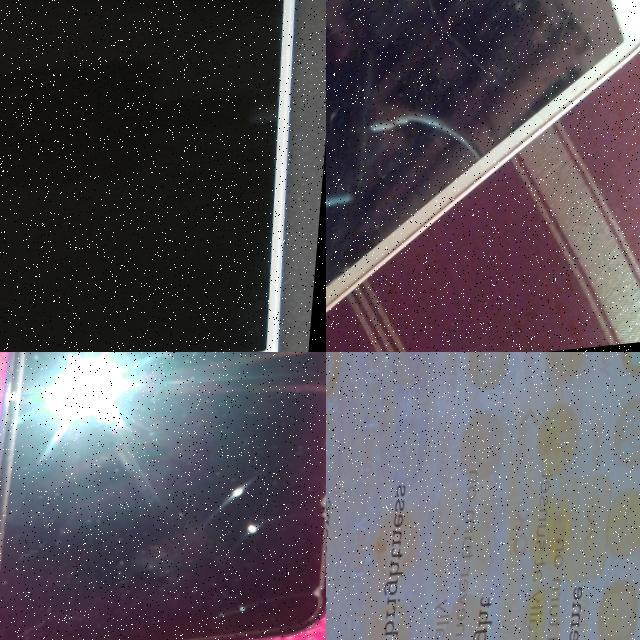screen crack: (180, 437, 326, 640)
